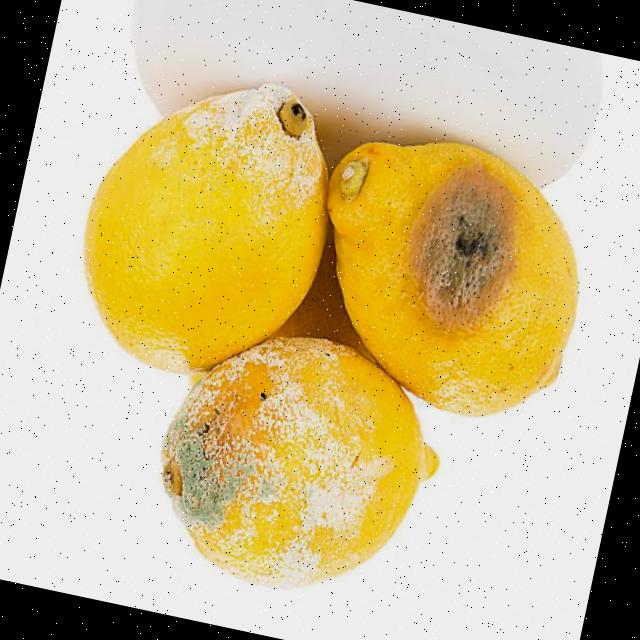Rotten: (287, 120, 608, 437), (133, 310, 460, 620)
